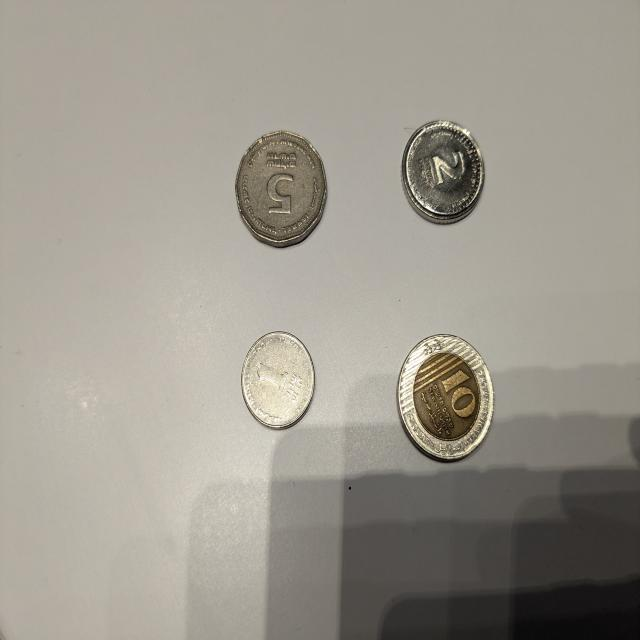1-shekel: (237, 328, 320, 429)
10-shekel: (396, 330, 495, 465)
2-shekel: (402, 122, 488, 221)
5-shekel: (235, 130, 324, 252)
